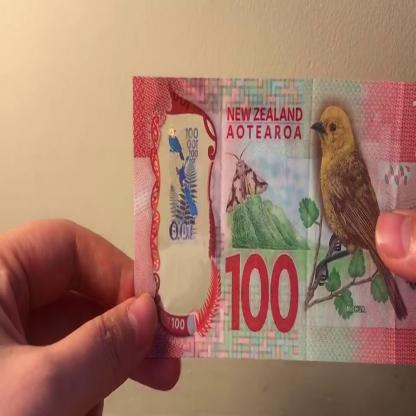100B: (162, 120, 203, 285)
